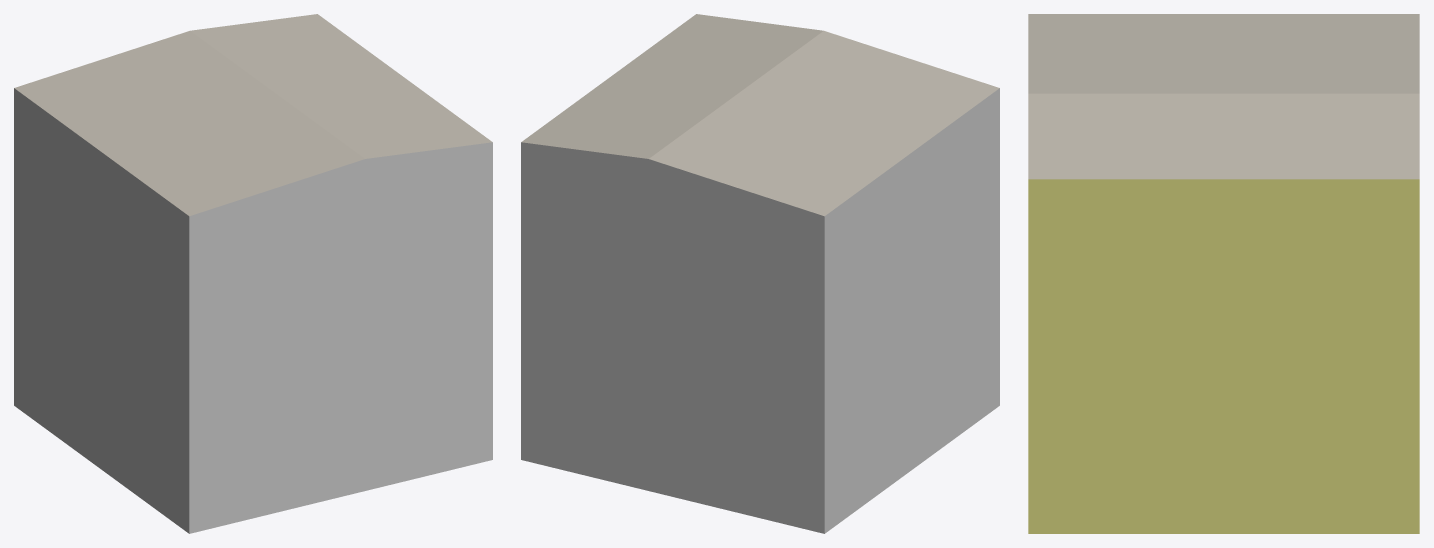
The model's file is Cave_Center_Base_1x1.glb.
3 views of the same model, side by side, from view 1: azimuth 30°, elevation 25°; view 2: azimuth 150°, elevation 25°; view 3: azimuth 270°, elevation 25° (orthographic). The views are drawn at different scales.
Visible parts, largest first — view 1: Cave_Center_Base_1x1; view 2: Cave_Center_Base_1x1; view 3: Cave_Center_Base_1x1.
Boxes of the visible parts, box(x1,y1,x2,y2) form: Cave_Center_Base_1x1: box(14, 14, 492, 533); Cave_Center_Base_1x1: box(521, 14, 999, 533); Cave_Center_Base_1x1: box(1028, 14, 1419, 533).
Bounding box in the file's own units: 100 × 105 × 100.
